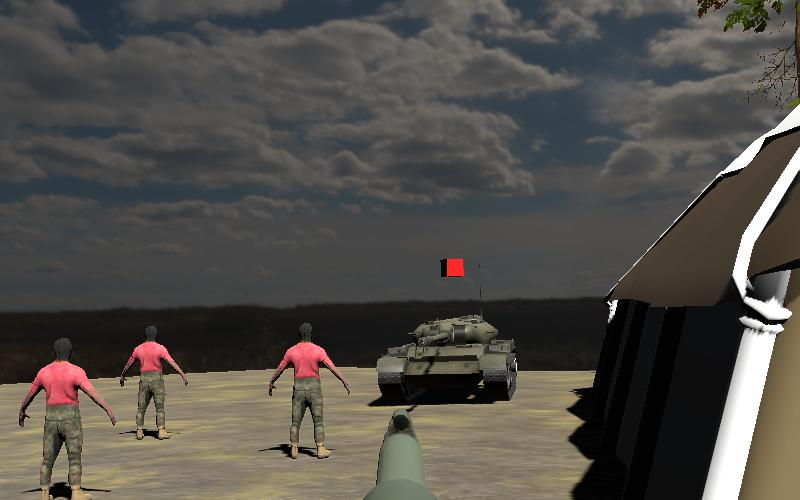Human: (18, 335, 116, 500), (267, 320, 349, 461), (120, 324, 187, 442)
Tank: (376, 310, 521, 407)
